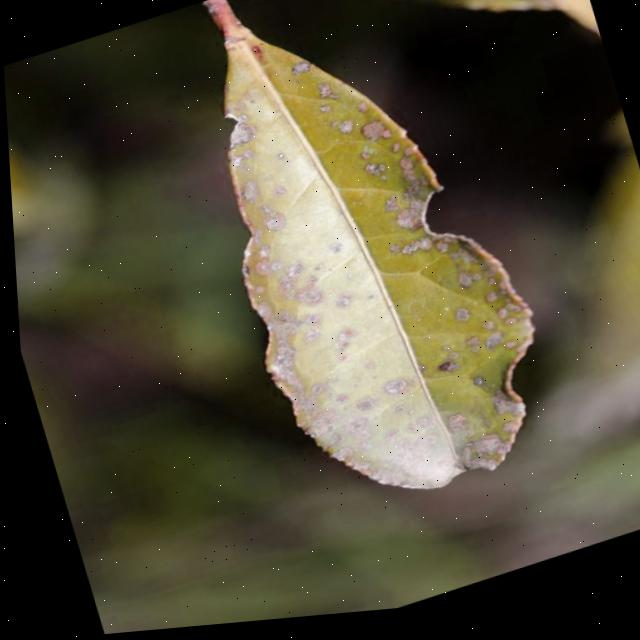Tea red rust: (189, 6, 562, 539)
